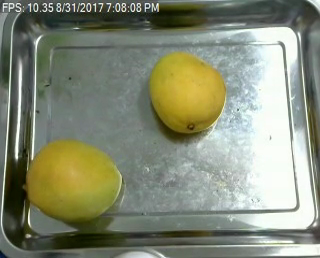Mango: (24, 140, 121, 222), (146, 53, 225, 132)
